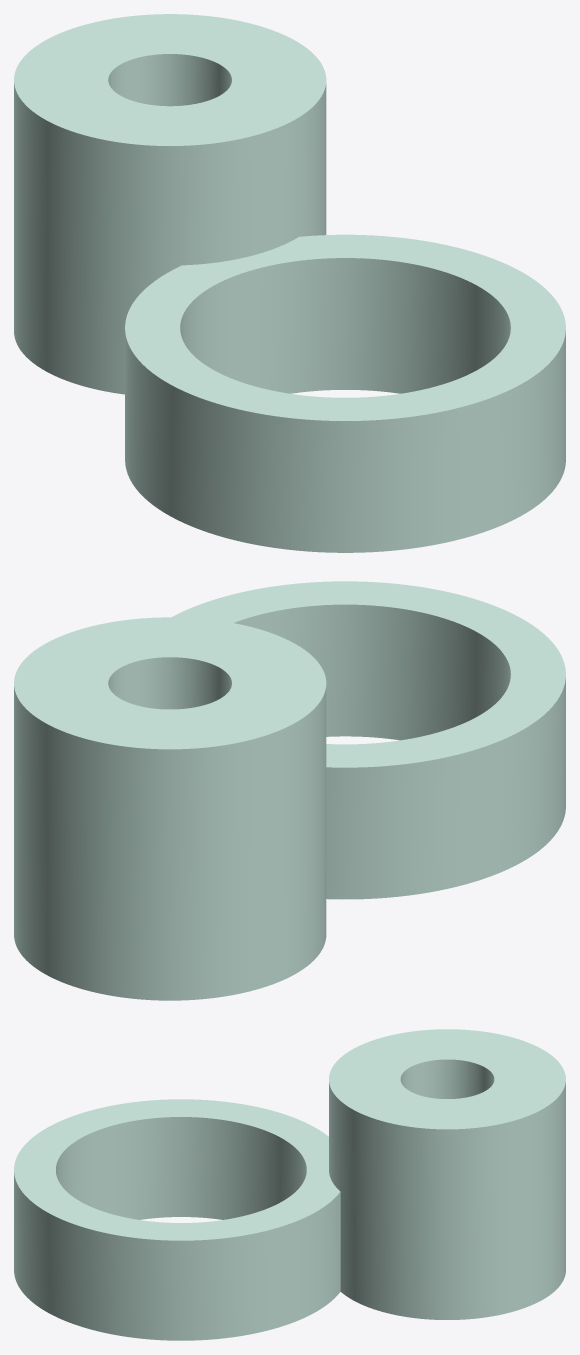
3 renders of one model, top to bottom at view 1: azimuth 30°, elevation 25°; view 2: azimuth 150°, elevation 25°; view 3: azimuth 270°, elevation 25°, orthographic. The views are drawn at different scales.
Parts seen in each view (by area): view 1: Renderer Node; view 2: Renderer Node; view 3: Renderer Node.
Boxes of the visible parts, bbox=[...] form: Renderer Node: bbox=[14, 14, 565, 552]; Renderer Node: bbox=[14, 581, 565, 1000]; Renderer Node: bbox=[14, 1029, 565, 1340].
Size of the model in its own units: 0.7578 by 0.4766 by 1.25.
